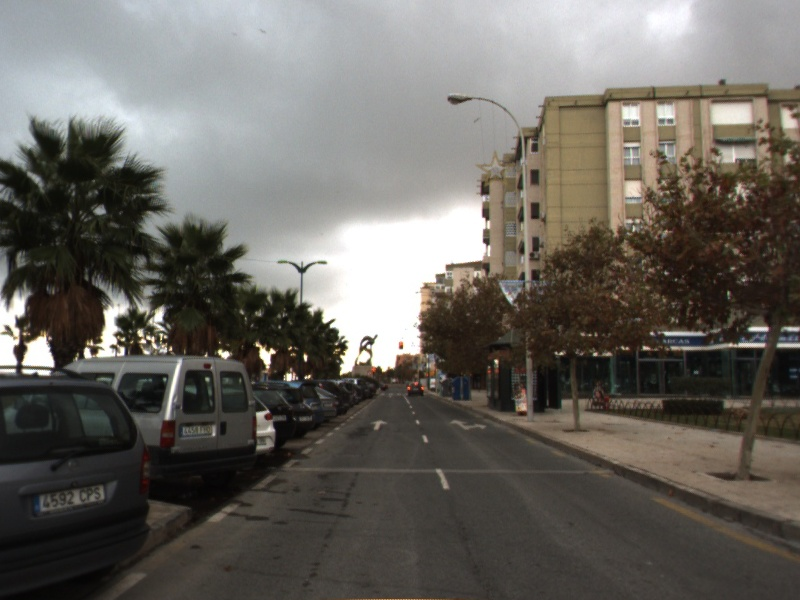STRAIGHT: (369, 418, 390, 432)
STRAIGHT_RIGHT: (448, 418, 488, 432)
